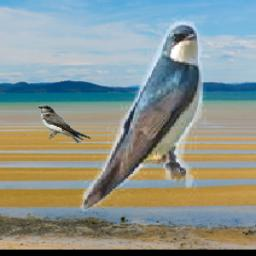Swallow: (76, 15, 206, 211), (37, 105, 91, 143)
